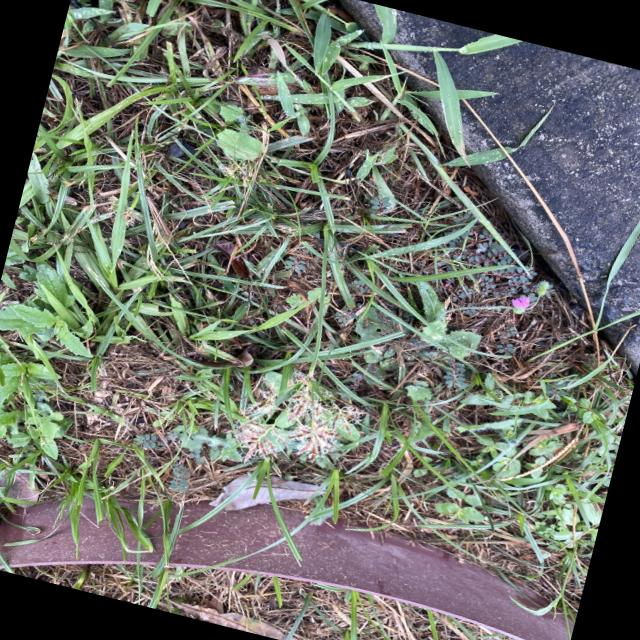cyperus: (215, 357, 370, 492)
